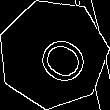O_NW: (20, 22, 87, 86)
